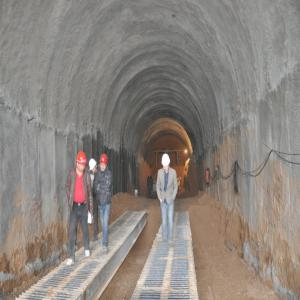red: (77, 152, 89, 174), (100, 155, 109, 174)
white: (162, 154, 171, 174), (90, 160, 98, 175)
